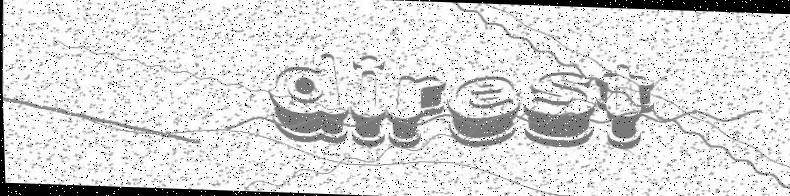d: (263, 51, 353, 146)
e: (442, 73, 525, 148)
i: (339, 51, 389, 151)
r: (383, 71, 450, 150)
s: (521, 63, 604, 150)
t: (592, 64, 657, 153)
